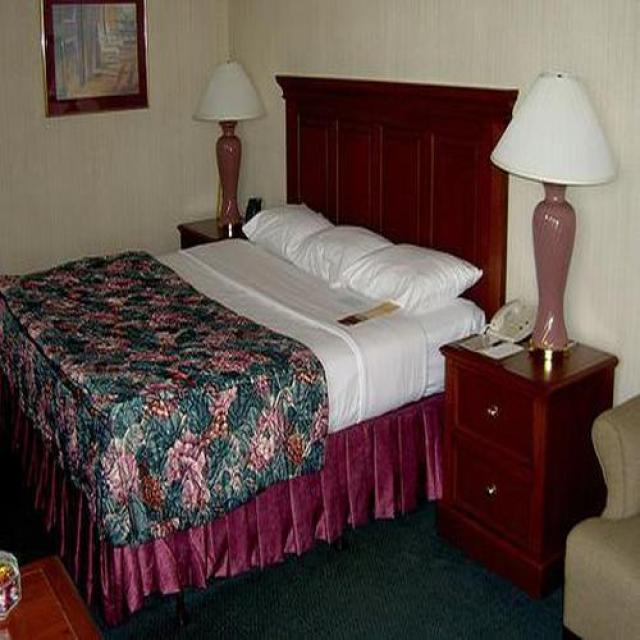bed: (4, 78, 517, 627)
